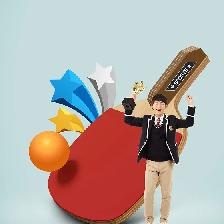YellowBall: (28, 130, 69, 171)
